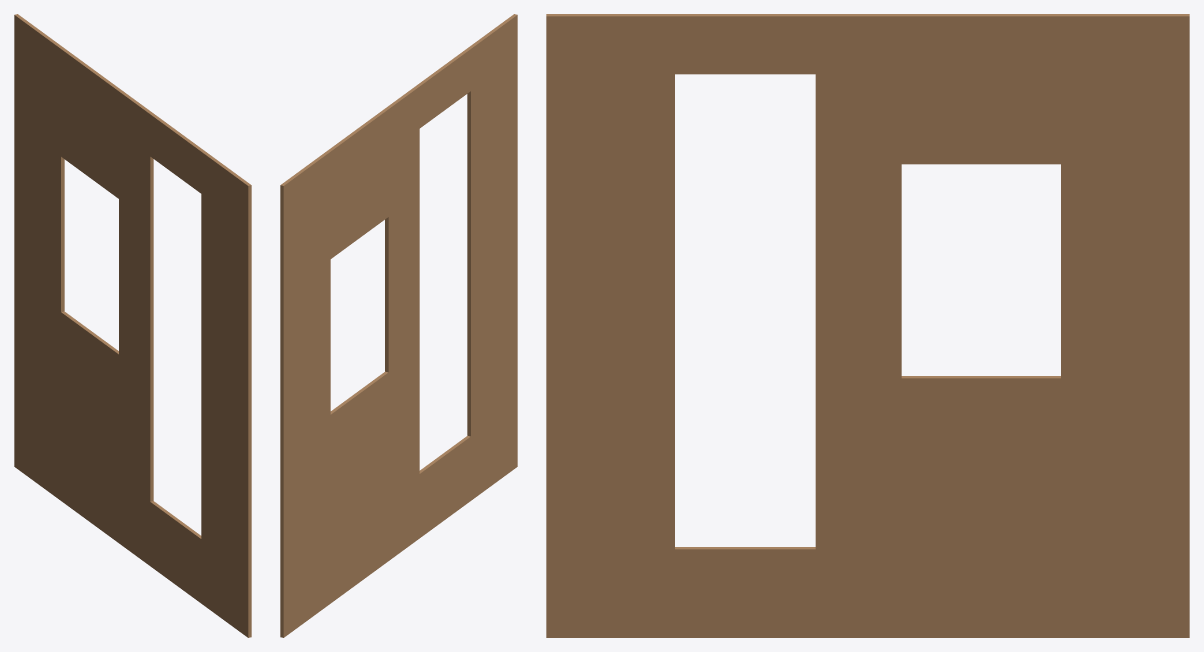
File: Tall Skinny Door With Window.fbx
3 renders of one model, left to right at view 1: azimuth 30°, elevation 25°; view 2: azimuth 150°, elevation 25°; view 3: azimuth 270°, elevation 25°, orthographic. The views are drawn at different scales.
Parts seen in each view (by area): view 1: Group1; view 2: Group1; view 3: Group1.
Part boxes in pixels (x1=…): Group1: x1=14, y1=14, x2=251, y2=637; Group1: x1=280, y1=14, x2=517, y2=637; Group1: x1=546, y1=14, x2=1189, y2=637.
Size of the model in its own units: 0.5 by 63.97 by 60.
